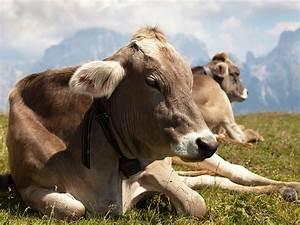cow: (5, 24, 299, 221)
